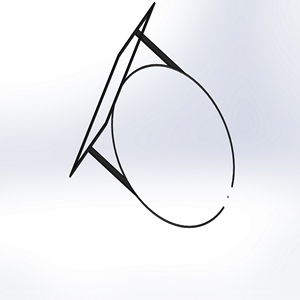circle: (66, 1, 238, 229)
